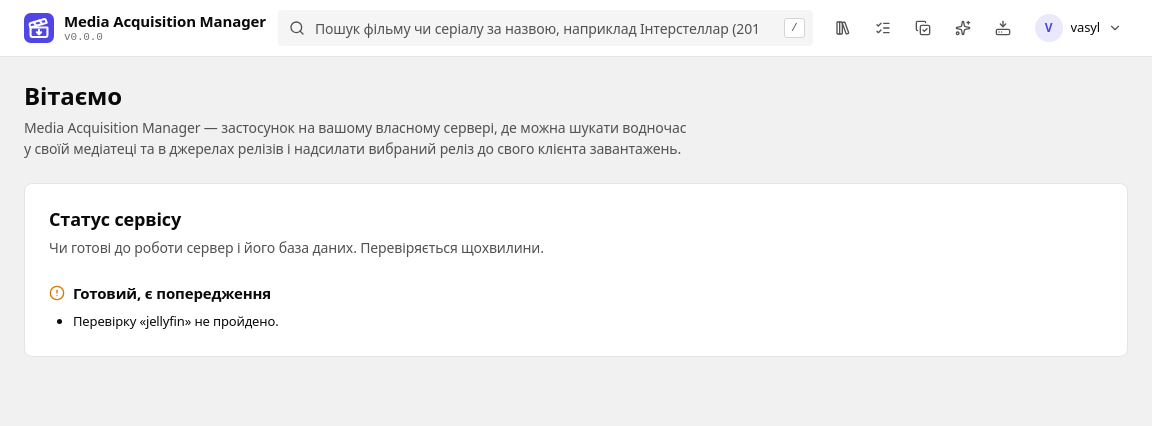
Scenario: every page in Ukrainian › shows Home, with the user menu open (/) in Ukrainian only
This screenshot has width=1152, height=426.
Expected: the heading "Статус сервісу" is shown, [49,207,181,231]
Click the button "V vasyl" at (1080, 28), box [1033,12,1128,44]
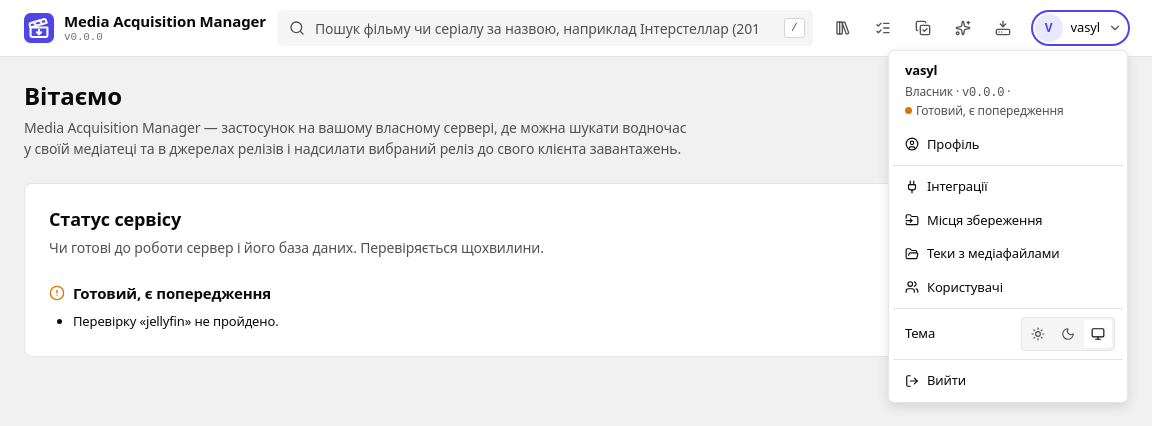
Expected: the button "V vasyl" is expanded, [1033,12,1128,44]
